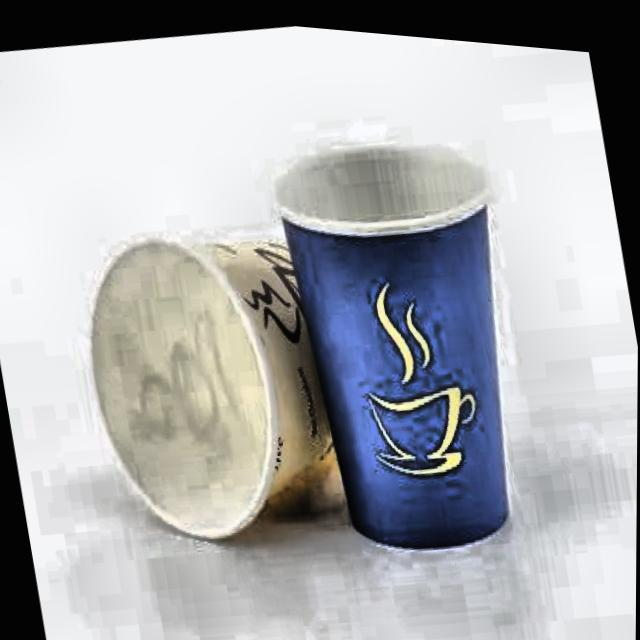Cup: (50, 178, 416, 577), (254, 101, 550, 576)
